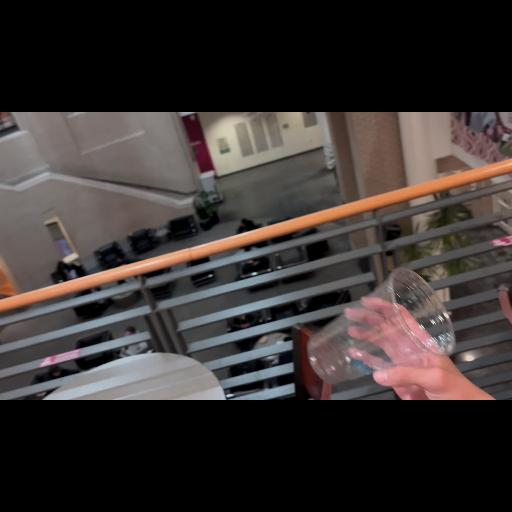lp_plastic_cup: (305, 266, 453, 384)
